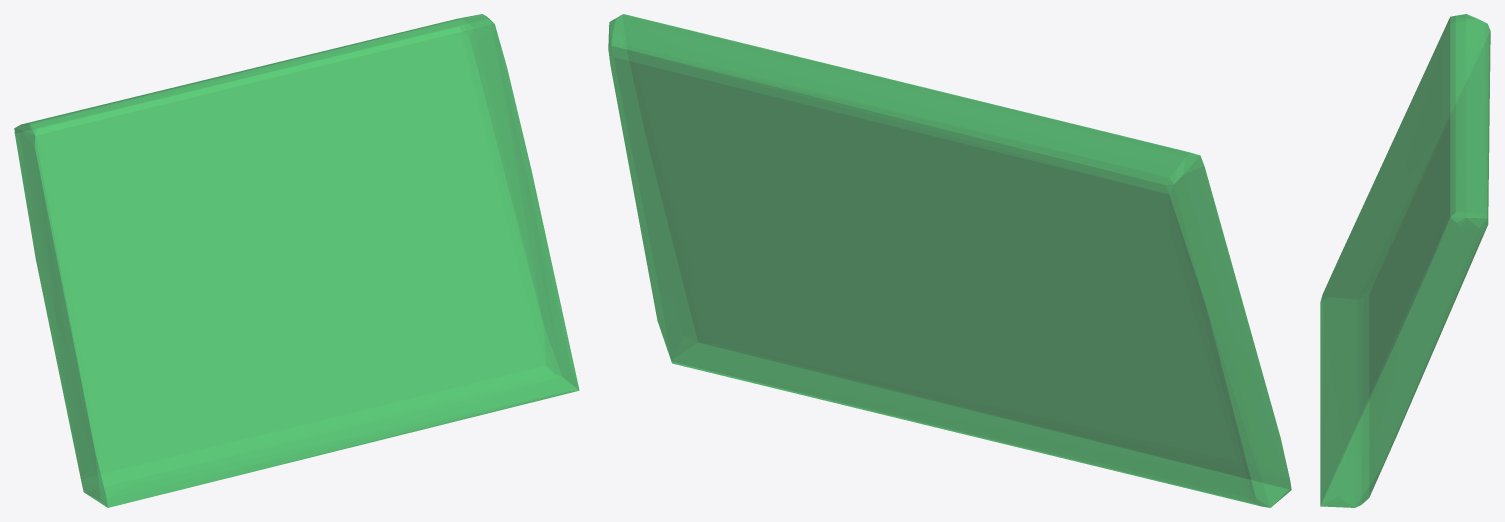
3 views of the same model, side by side, from view 1: azimuth 30°, elevation 25°; view 2: azimuth 150°, elevation 25°; view 3: azimuth 270°, elevation 25° (orthographic). The views are drawn at different scales.
Visible parts, largest first — view 1: Shape_IndexedFaceSet.001_Shape_IndexedFaceSet.5872; view 2: Shape_IndexedFaceSet.001_Shape_IndexedFaceSet.5872; view 3: Shape_IndexedFaceSet.001_Shape_IndexedFaceSet.5872.
Boxes of the visible parts, <box> form: Shape_IndexedFaceSet.001_Shape_IndexedFaceSet.5872: <box>14,14,579,507</box>; Shape_IndexedFaceSet.001_Shape_IndexedFaceSet.5872: <box>608,14,1291,507</box>; Shape_IndexedFaceSet.001_Shape_IndexedFaceSet.5872: <box>1320,14,1490,507</box>.
Size of the model in its own units: 1.13 by 0.7324 by 0.3904.
